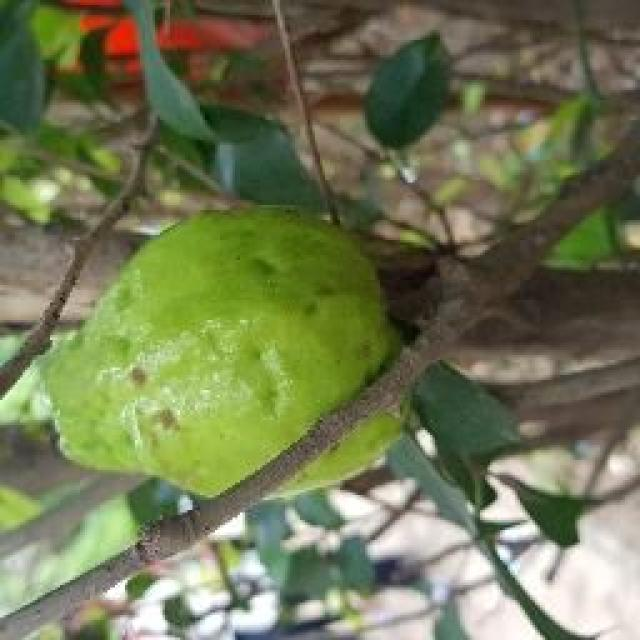Good_Guava: (35, 205, 402, 502)
